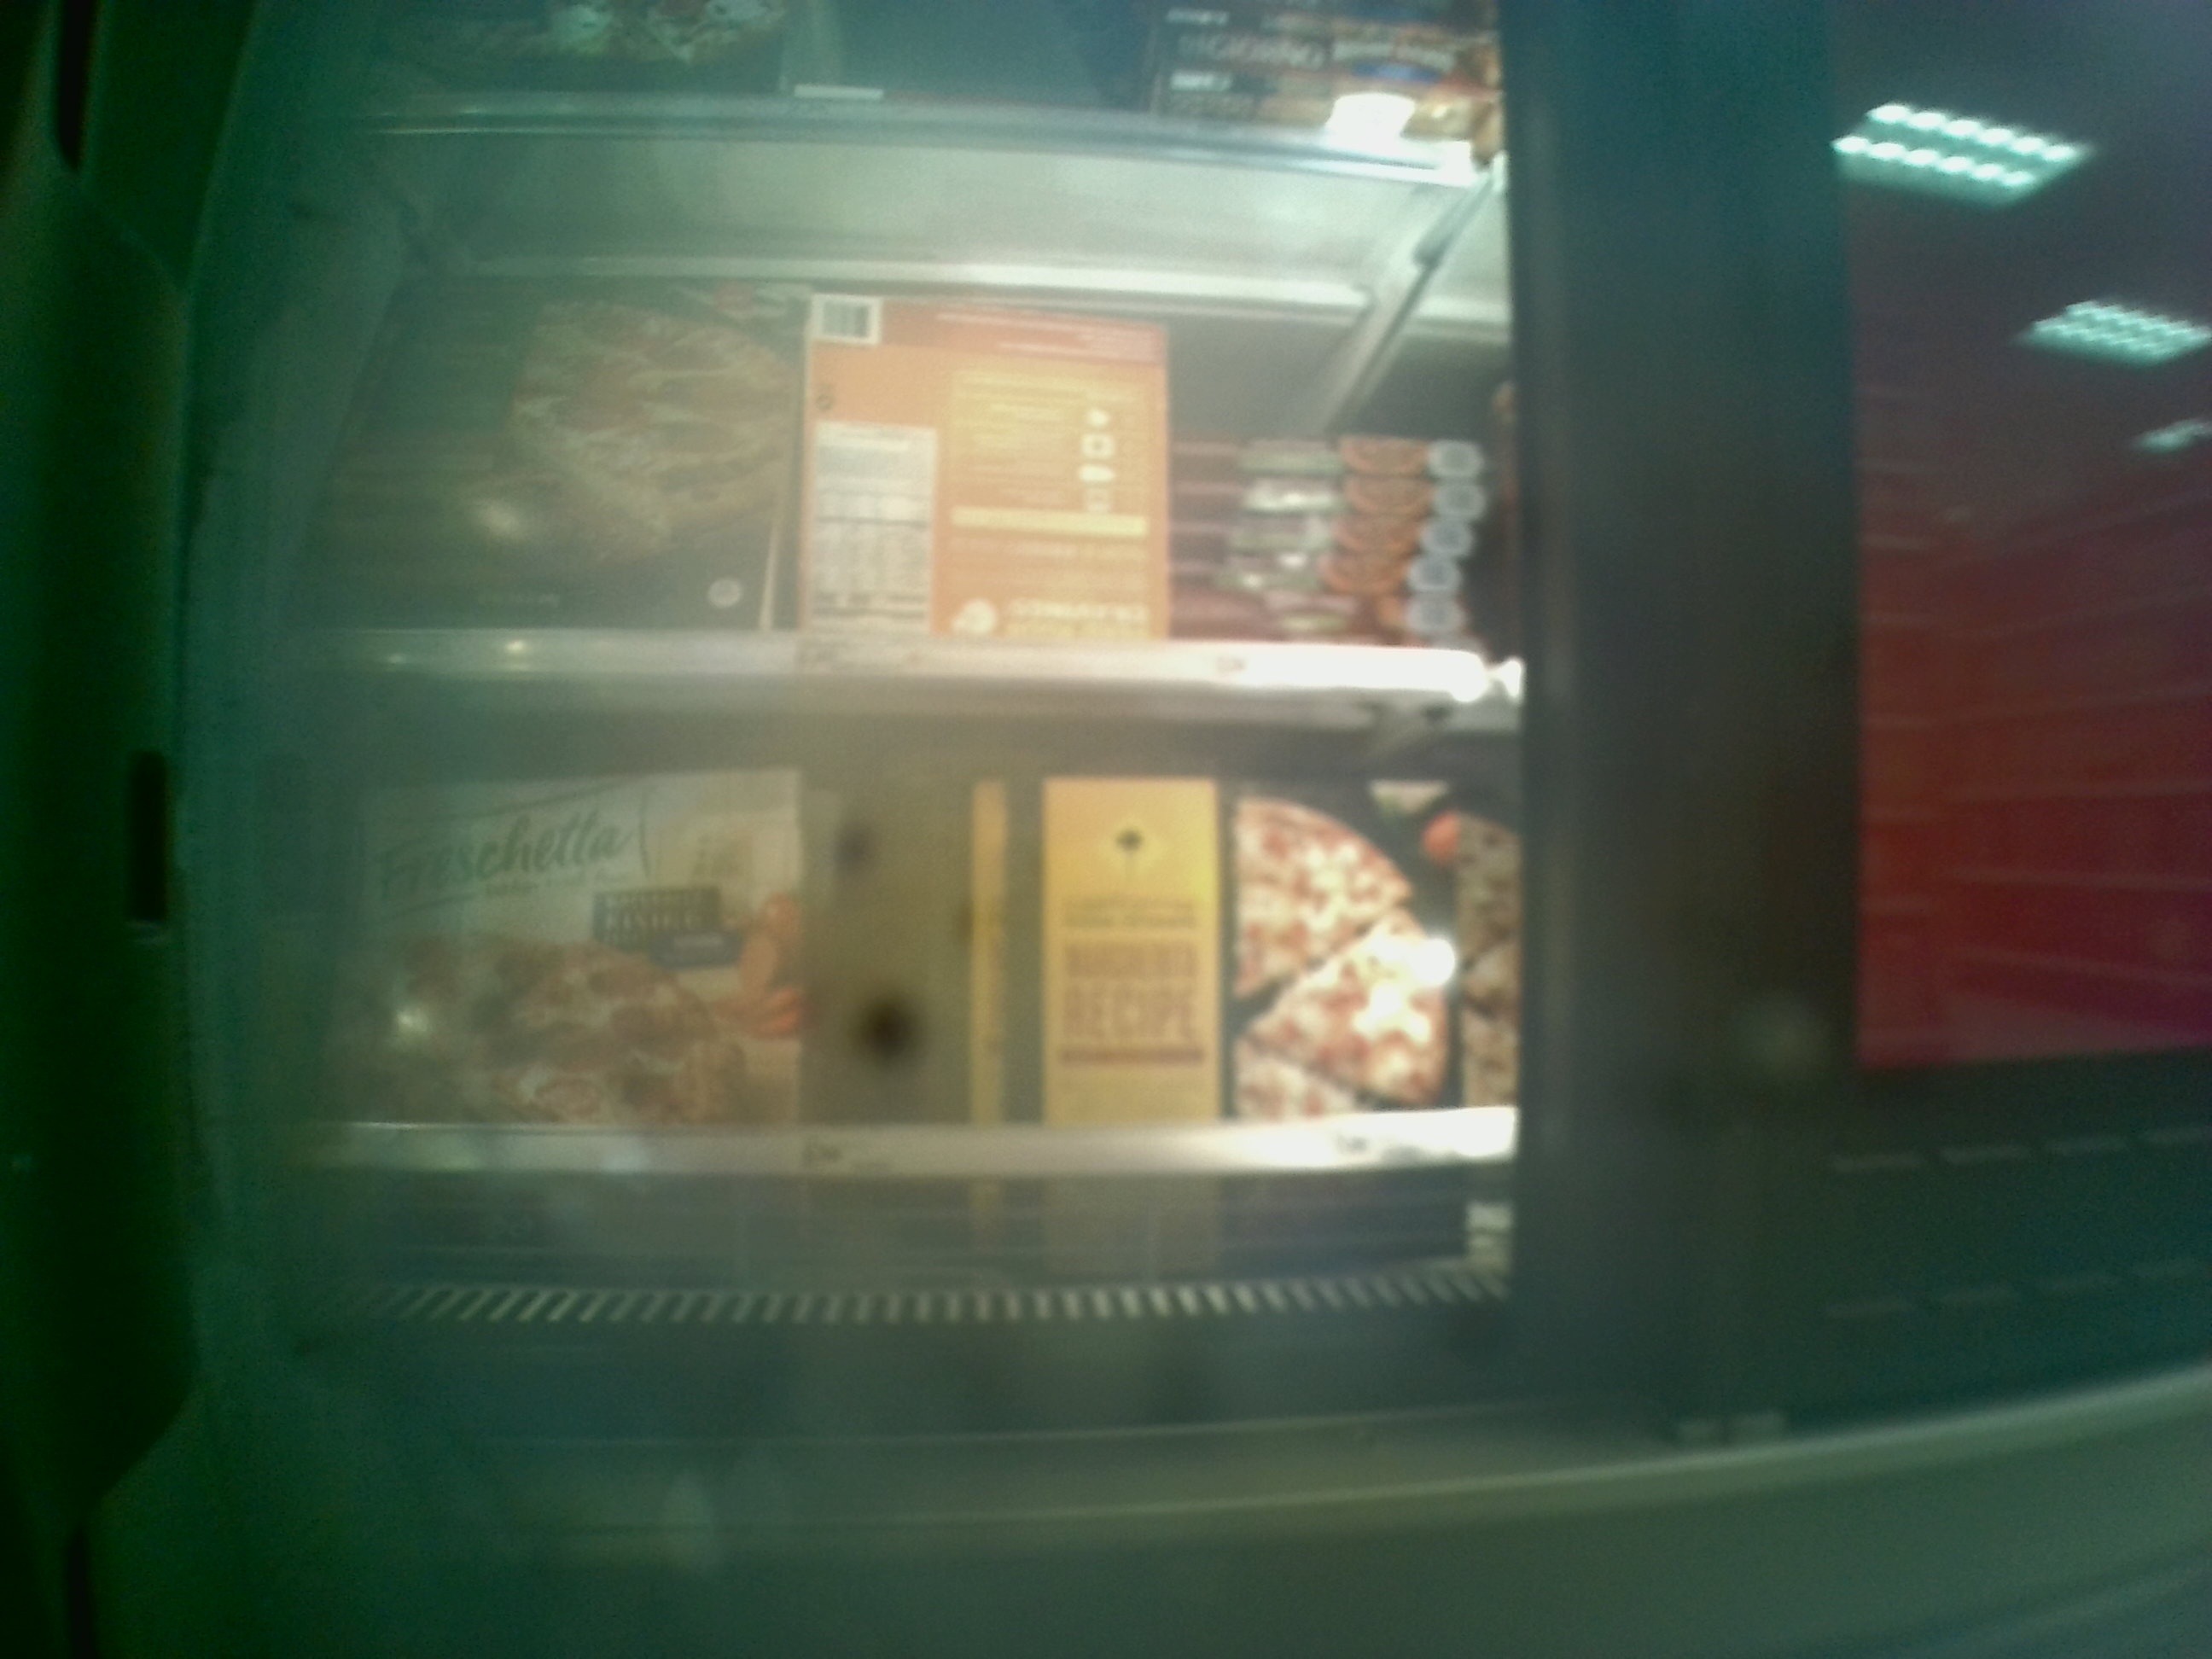shelf: (268, 660, 1519, 1180)
